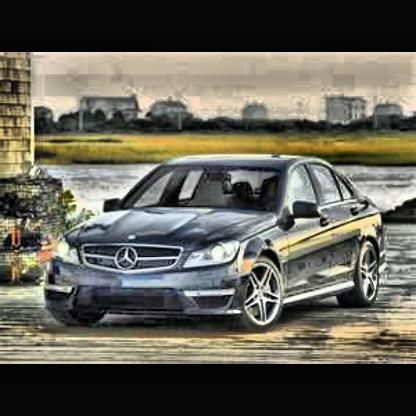Mercedes-Benz C-Class Sedan 2012: (46, 156, 385, 334)
